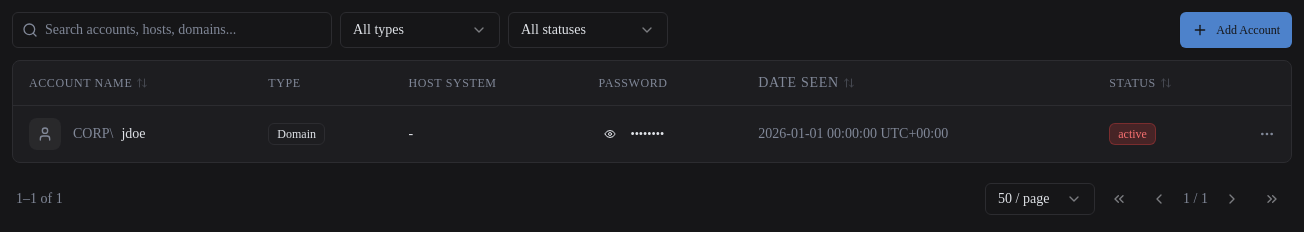
it: CompromisedAccountsTab › reveals a single account through the single-account endpoint
The image size is (1304, 232).
Step 1. Click the button named "reveal password" → click(610, 134), box [598,122,622,146]
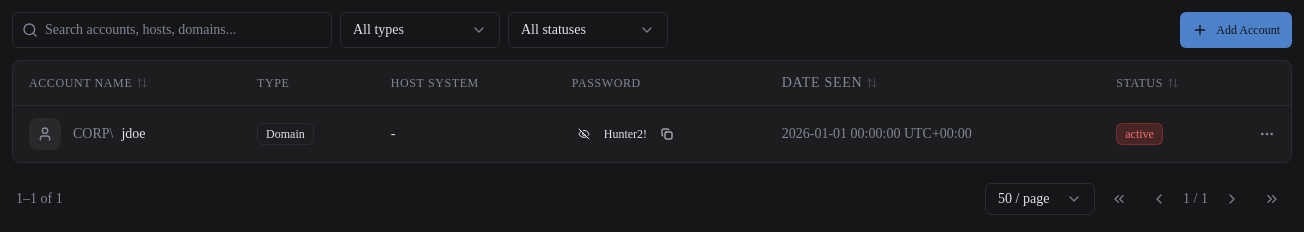
Now the text "Hunter2!" is shown, box [604,126,647,142]
